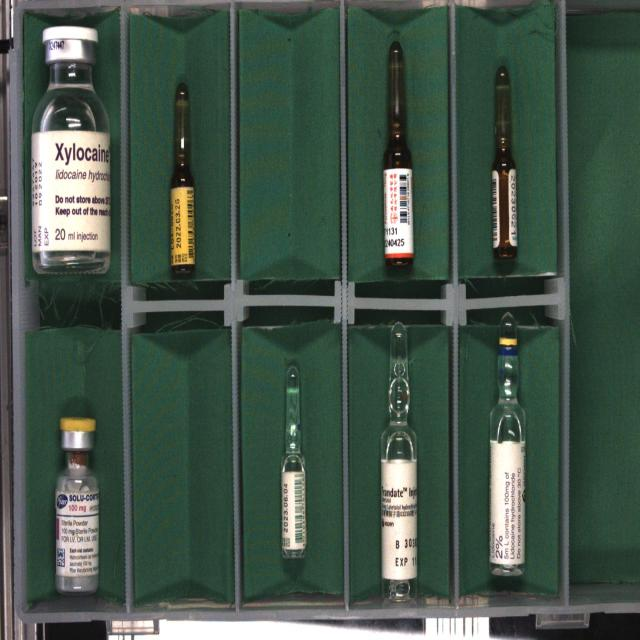Ampoules: (381, 322, 417, 602), (489, 313, 526, 577), (383, 41, 414, 266), (491, 66, 517, 259), (281, 365, 306, 558), (170, 83, 195, 272)
Vials: (31, 26, 111, 273), (55, 417, 99, 593)
